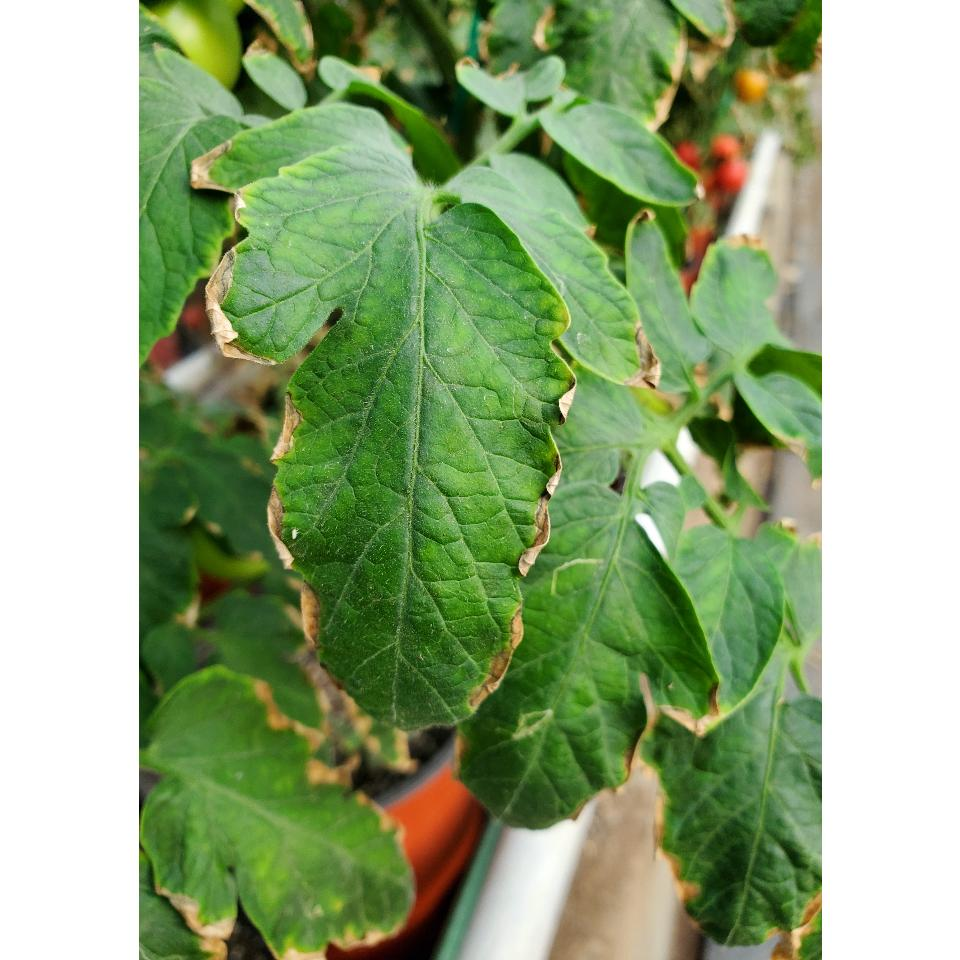tomato_bacterial_blight: (204, 162, 586, 742), (558, 213, 686, 413), (593, 629, 727, 817), (178, 108, 296, 220)
